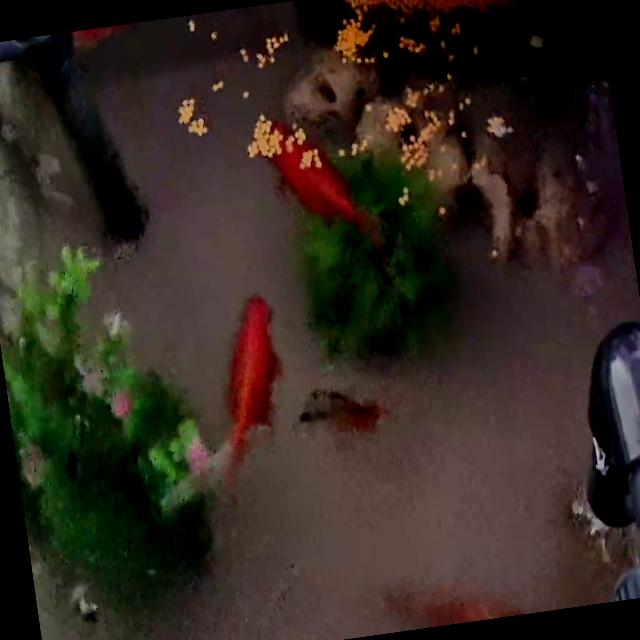fish: (172, 292, 296, 501), (266, 92, 365, 234), (392, 572, 509, 632), (304, 381, 382, 442), (67, 22, 142, 51)
